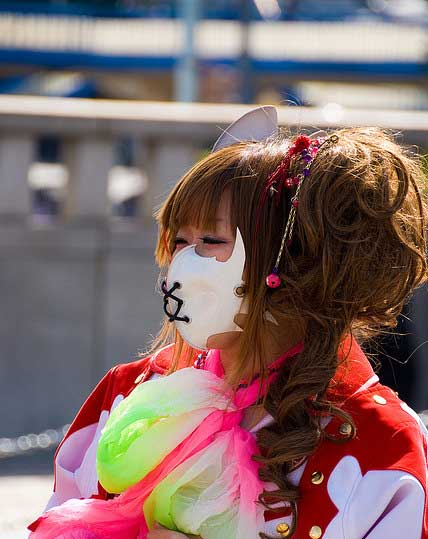face_mask: (162, 199, 243, 350)
